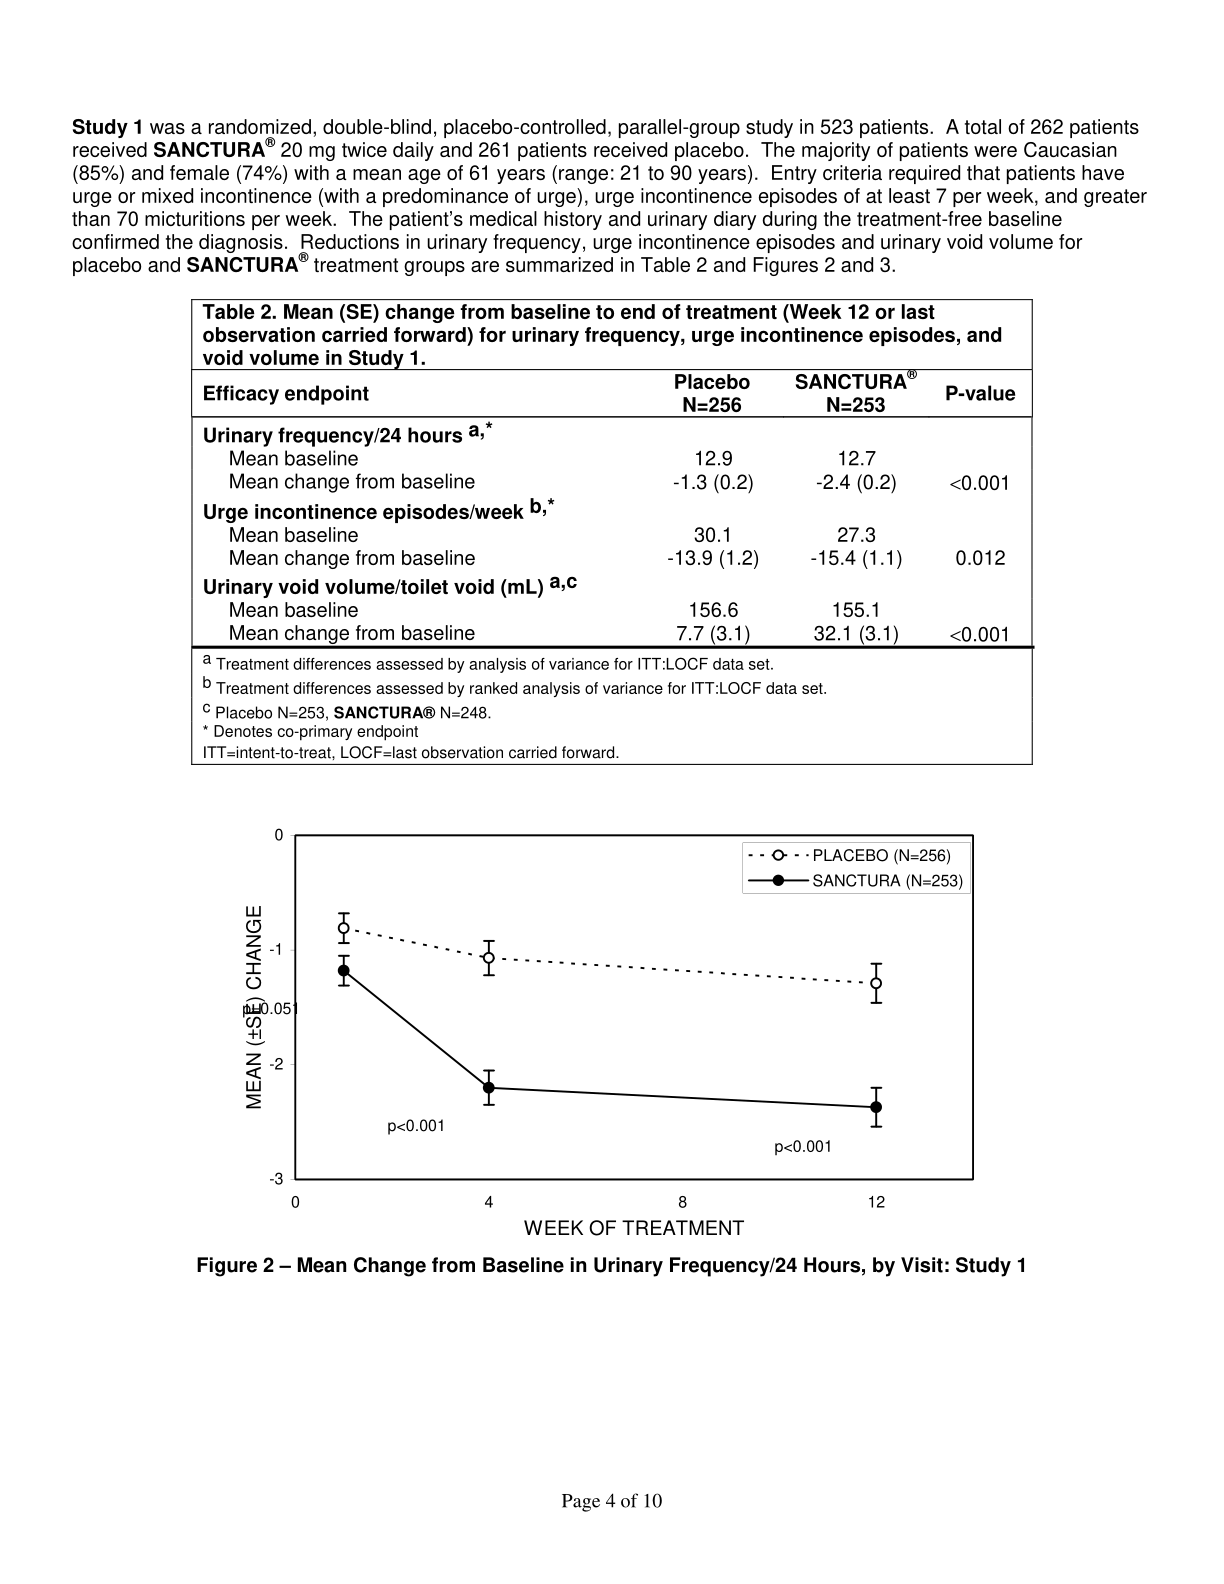partial_lined_merged_cells: (190, 297, 1034, 768)
